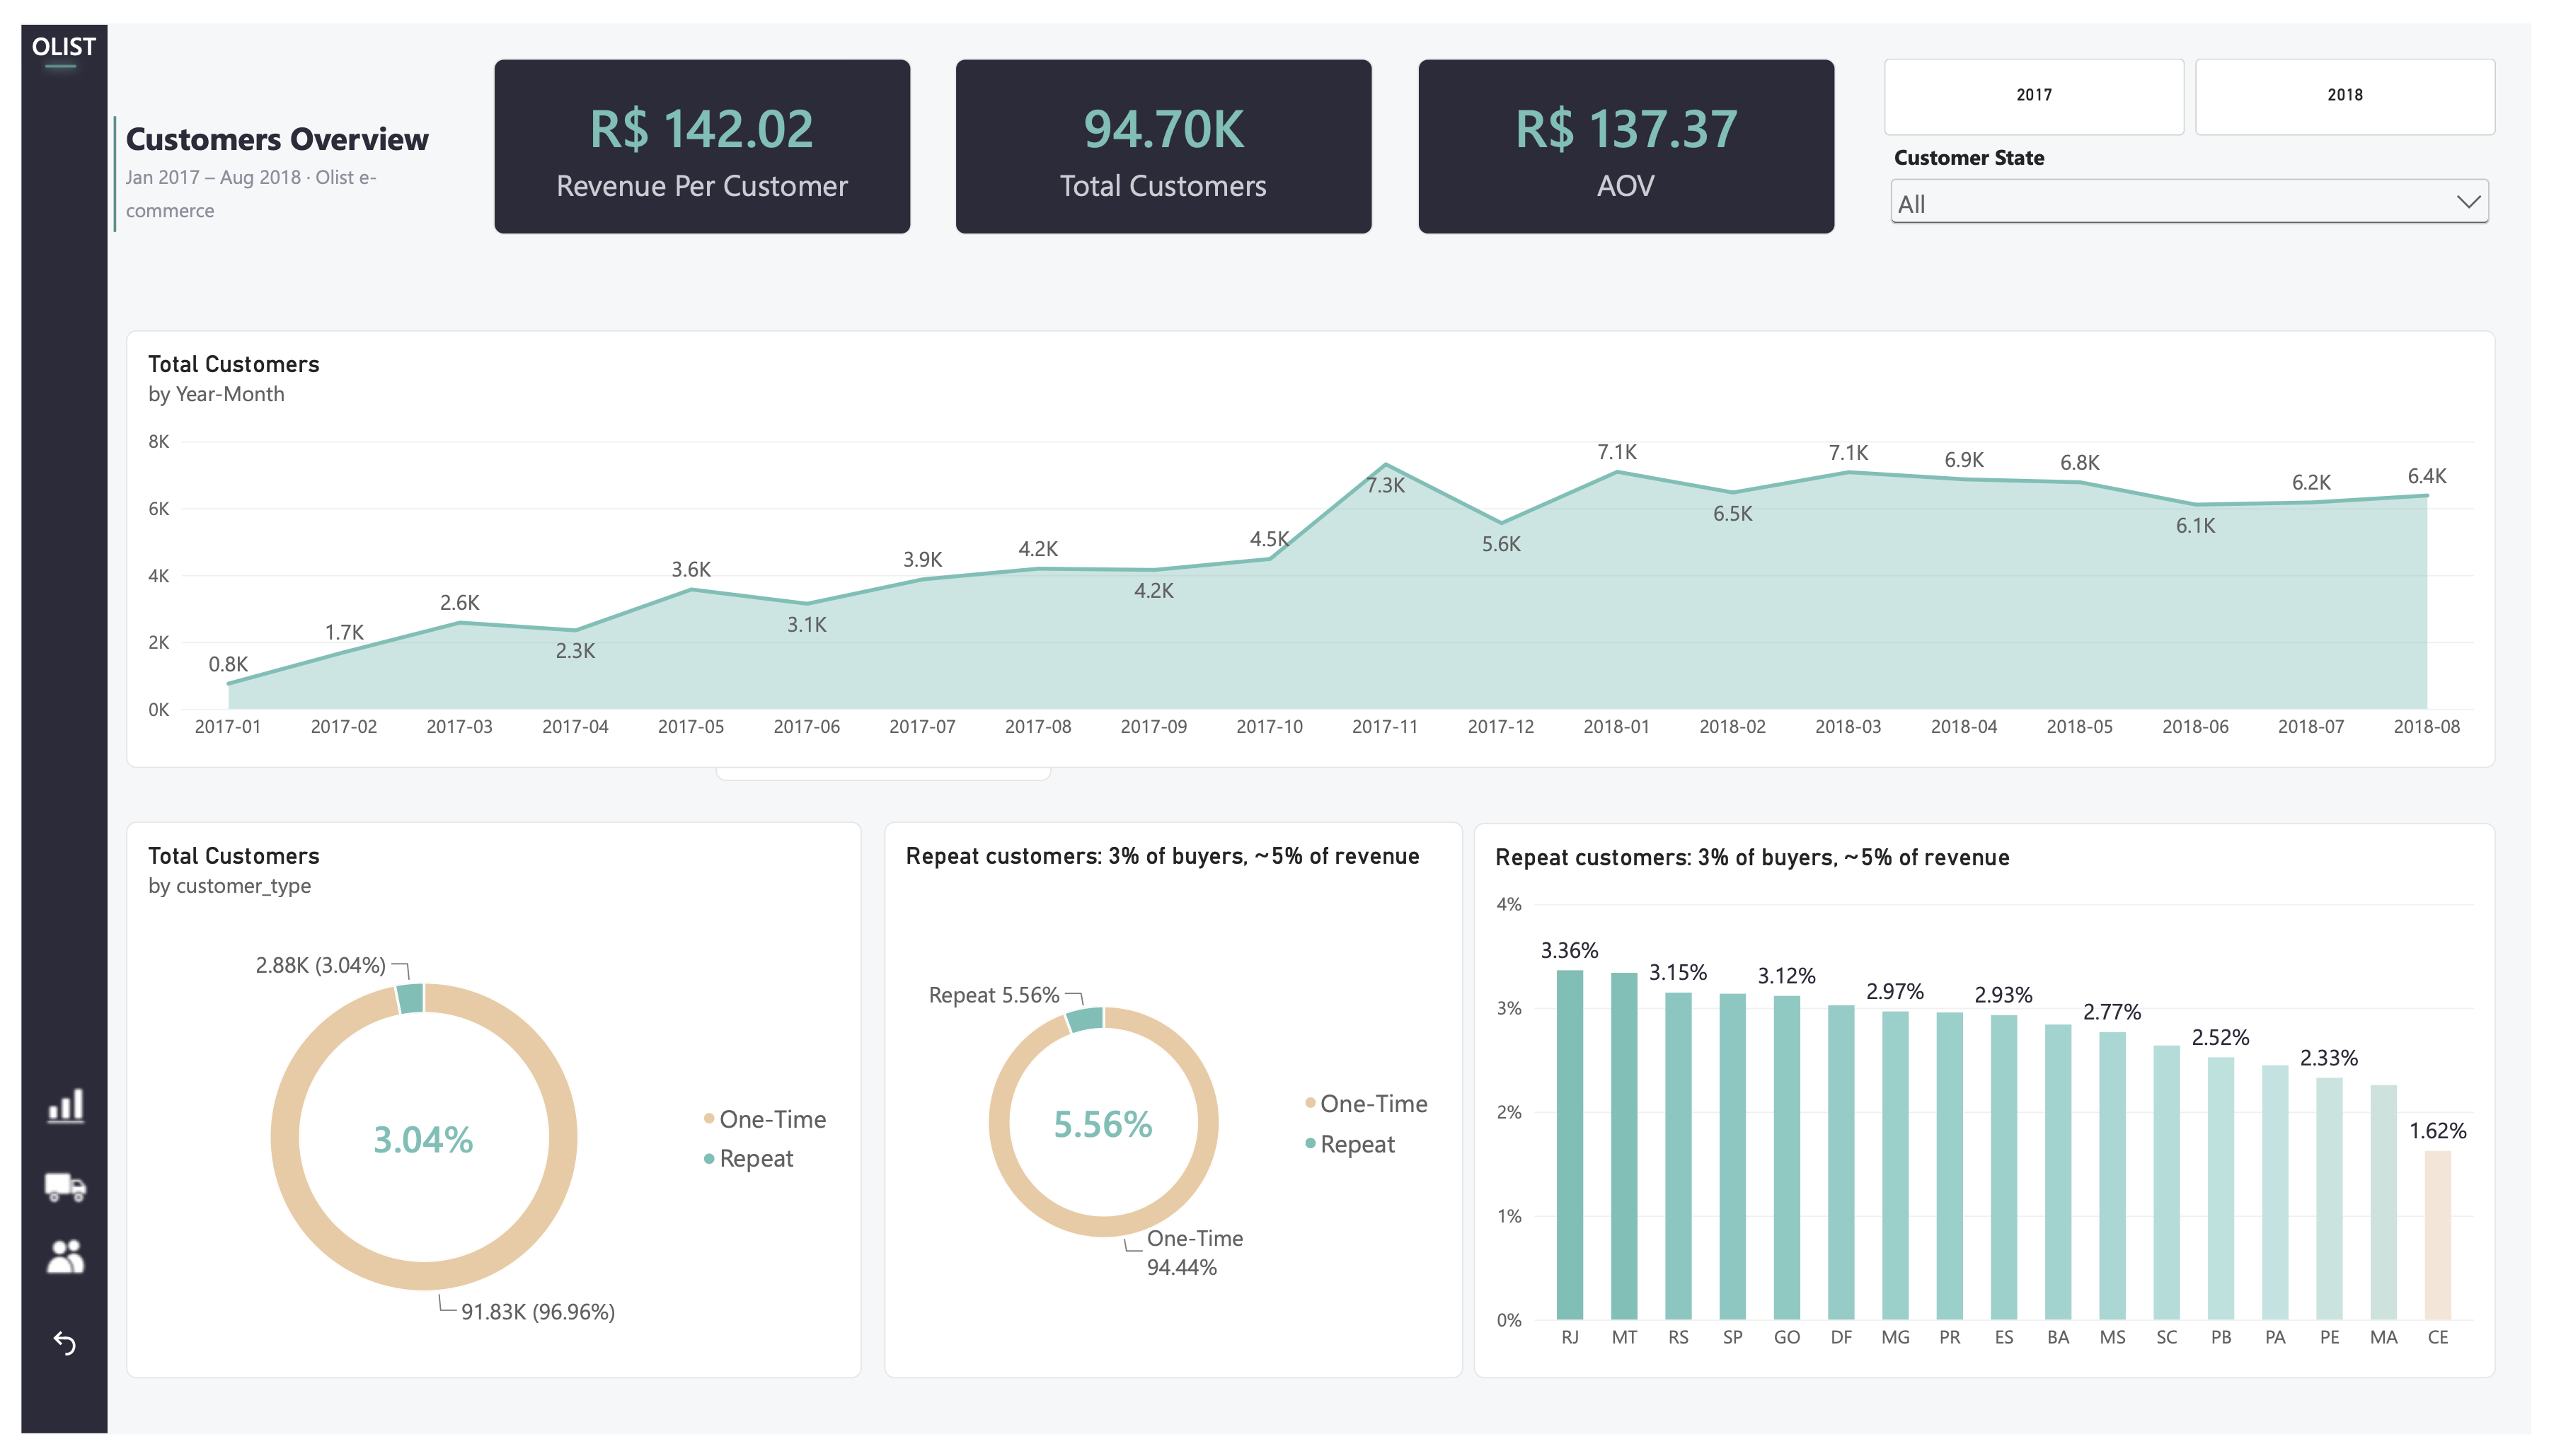

Layout of this report page (visuals, bound fields, positions):
{"tool":"powerbi","page":{"name":"Customers","canvas":[1920,1080],"ordinal":2},"visuals":[{"type":"card","fields":{"Values":["_Measures.Repeat Customers %"]},"box":[531,445,256.8,134.8],"z":0},{"type":"card","fields":{"Values":["_Measures.AOV"]},"box":[1068.5,27,320,135],"z":1000},{"type":"card","fields":{"Values":["_Measures.Total Customers"]},"box":[713.6,27,320,135],"z":2000},{"type":"card","fields":{"Values":["_Measures.Revenue Per Customer"]},"box":[361.1,27,320,135],"z":3000},{"type":"textbox","box":[79.8,71.2,237,103.2],"z":4000},{"type":"lineChart","fields":{"Category":["Calendar.Year-Month"],"Y":["_Measures.Total Customers"]},"box":[80.1,234.8,1812.5,334.9],"z":5000},{"type":"donutChart","fields":{"Category":["dim_customers.customer_type"],"Y":["_Measures.Total Customers"]},"box":[80.1,610.8,563,426.1],"z":6000},{"type":"donutChart","title":"Repeat customers: 3% of buyers, ~5% of revenue","fields":{"Category":["dim_customers.customer_type"],"Y":["_Measures.Total Revenue"]},"box":[660,611.2,442.7,425.3],"z":7000},{"type":"clusteredColumnChart","title":"Repeat customers: 3% of buyers, ~5% of revenue","fields":{"Category":["dim_customers.customer_state"],"Y":["_Measures.Repeat Customers %"]},"box":[1111.5,611.6,781.1,424.9],"z":8000},{"type":"advancedSlicerVisual","fields":{"Values":["Calendar.Year"]},"box":[1424.6,26.7,468.3,59.3],"z":9000},{"type":"slicer","fields":{"Values":["dim_customers.customer_state"]},"box":[1424.6,90.6,468.3,70.9],"z":10000},{"type":"shape","box":[0,1.1,65.6,1078.2],"z":11000},{"type":"textbox","box":[0,4.5,65.6,134.6],"z":12000},{"type":"actionButton","box":[0,799.5,65.1,54],"z":13000},{"type":"actionButton","box":[0,862.2,65.1,54],"z":14000},{"type":"actionButton","box":[0,916.2,65.1,54],"z":15000},{"type":"actionButton","box":[0,980.1,65.1,59],"z":16000},{"type":"shape","box":[9.8,4.9,40.5,56.5],"z":17000},{"type":"shape","box":[50.4,71.2,43,88.4],"z":18000}]}

Visuals, with their boxes on the page's 1920x1080 design canvas (x1, y1, x2, y2). These are canvas units, not pixel positions in the 2549x1456 screenshot, which may show the page scaled, cropped or inside an application window:
card - _Measures.Repeat Customers %: [left=531, top=445, right=788, bottom=580]
card - _Measures.AOV: [left=1068, top=27, right=1388, bottom=162]
card - _Measures.Total Customers: [left=714, top=27, right=1034, bottom=162]
card - _Measures.Revenue Per Customer: [left=361, top=27, right=681, bottom=162]
textbox: [left=80, top=71, right=317, bottom=174]
lineChart - Calendar.Year-Month x _Measures.Total Customers: [left=80, top=235, right=1893, bottom=570]
donutChart - dim_customers.customer_type x _Measures.Total Customers: [left=80, top=611, right=643, bottom=1037]
"Repeat customers: 3% of buyers, ~5% of revenue" donutChart: [left=660, top=611, right=1103, bottom=1036]
"Repeat customers: 3% of buyers, ~5% of revenue" clusteredColumnChart: [left=1112, top=612, right=1893, bottom=1036]
advancedSlicerVisual - Calendar.Year: [left=1425, top=27, right=1893, bottom=86]
slicer - dim_customers.customer_state: [left=1425, top=91, right=1893, bottom=162]
shape: [left=0, top=1, right=66, bottom=1079]
textbox: [left=0, top=4, right=66, bottom=139]
actionButton: [left=0, top=800, right=65, bottom=854]
actionButton: [left=0, top=862, right=65, bottom=916]
actionButton: [left=0, top=916, right=65, bottom=970]
actionButton: [left=0, top=980, right=65, bottom=1039]
shape: [left=10, top=5, right=50, bottom=61]
shape: [left=50, top=71, right=93, bottom=160]
